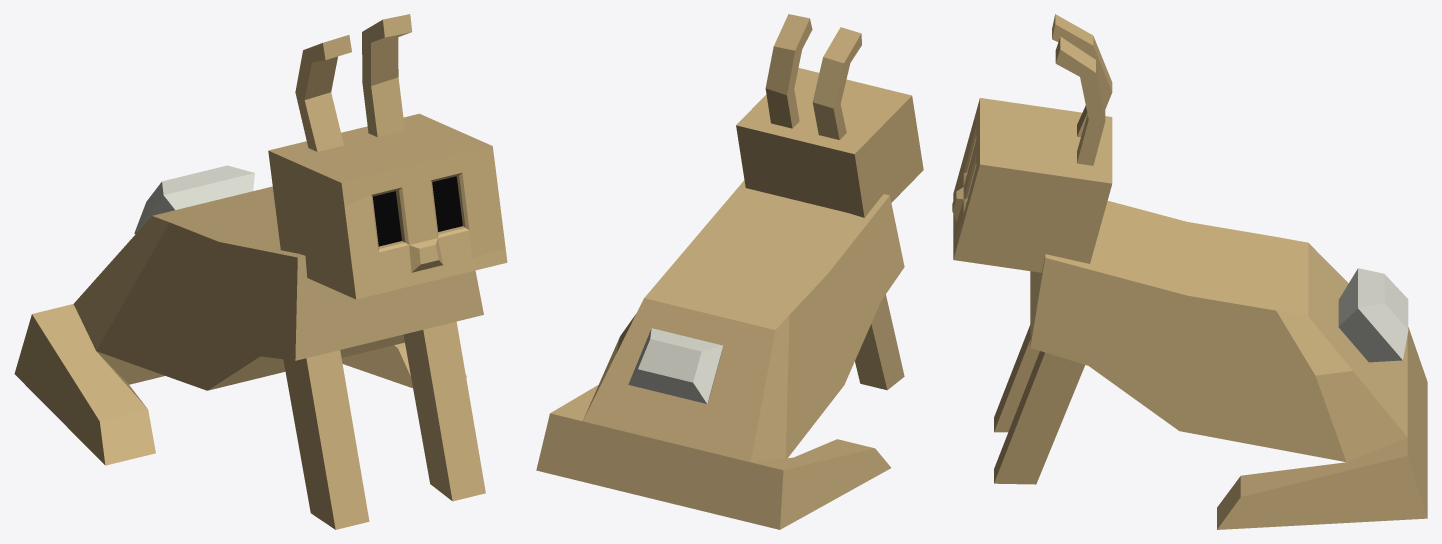
File: Bunny.fbx
3 renders of one model, left to right at view 1: azimuth 30°, elevation 25°; view 2: azimuth 150°, elevation 25°; view 3: azimuth 270°, elevation 25°, orthographic. The views are drawn at different scales.
Visible parts, largest first — view 1: Bunny; view 2: Bunny; view 3: Bunny.
Boxes of the visible parts, x1=… form: Bunny: x1=14, y1=14, x2=507, y2=529; Bunny: x1=536, y1=14, x2=923, y2=529; Bunny: x1=952, y1=14, x2=1427, y2=529.
Size of the model in its own units: 226 by 276 by 284.
